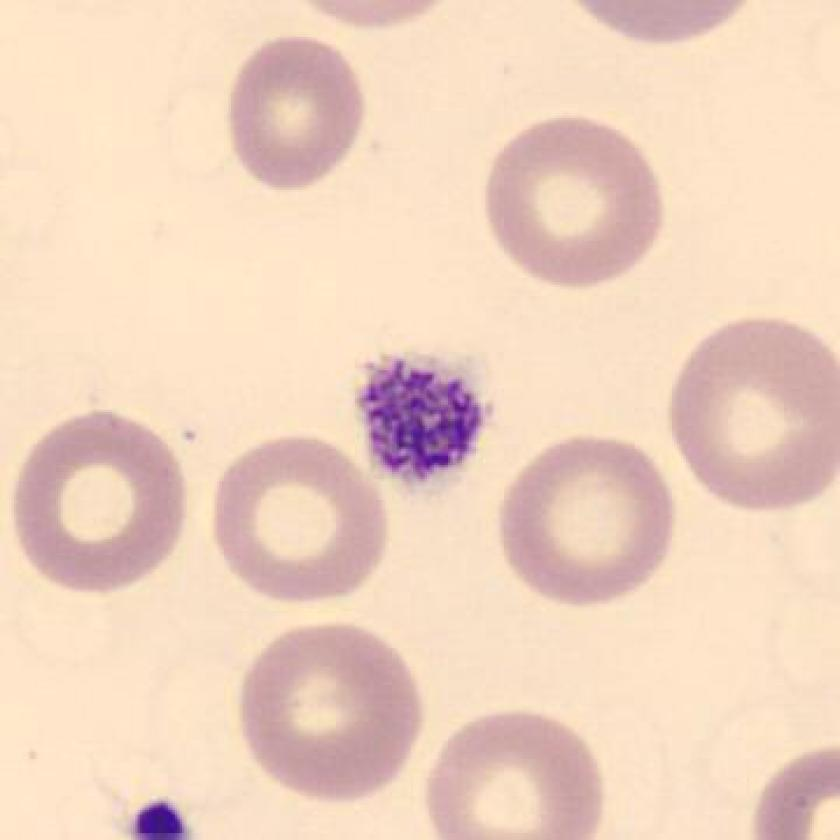platelets: (351, 346, 496, 494)
